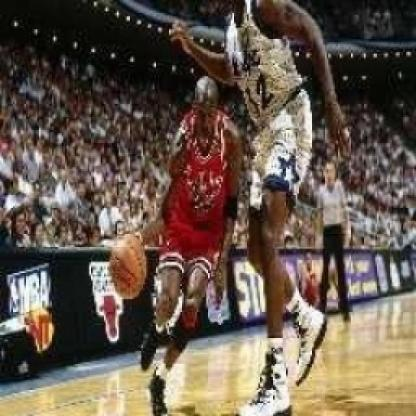basketball: (108, 228, 148, 298)
